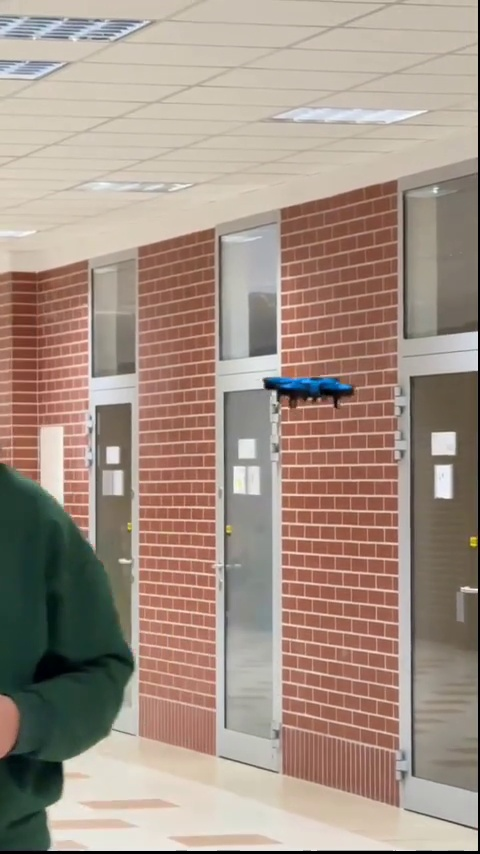drone: (265, 373, 352, 406)
no vest: (0, 448, 137, 854)
